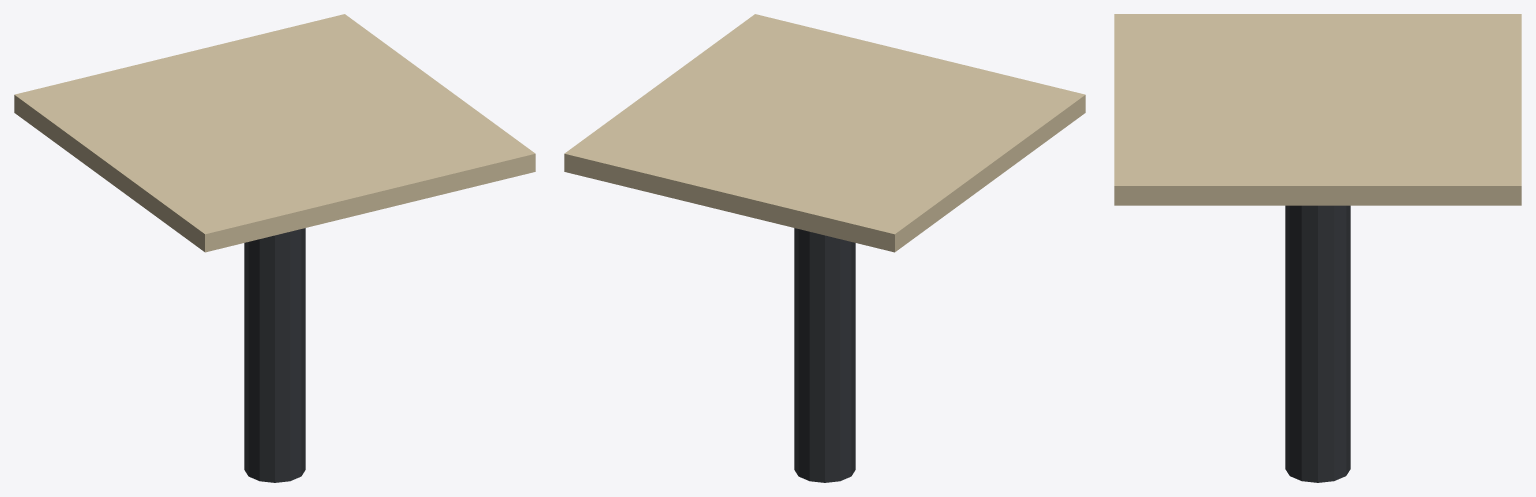
The model's file is table_2top_30.glb.
3 renders of one model, left to right at view 1: azimuth 30°, elevation 25°; view 2: azimuth 150°, elevation 25°; view 3: azimuth 270°, elevation 25°, orthographic. The views are drawn at different scales.
Bounding box in the file's own units: 0.762 × 0.762 × 0.762.
